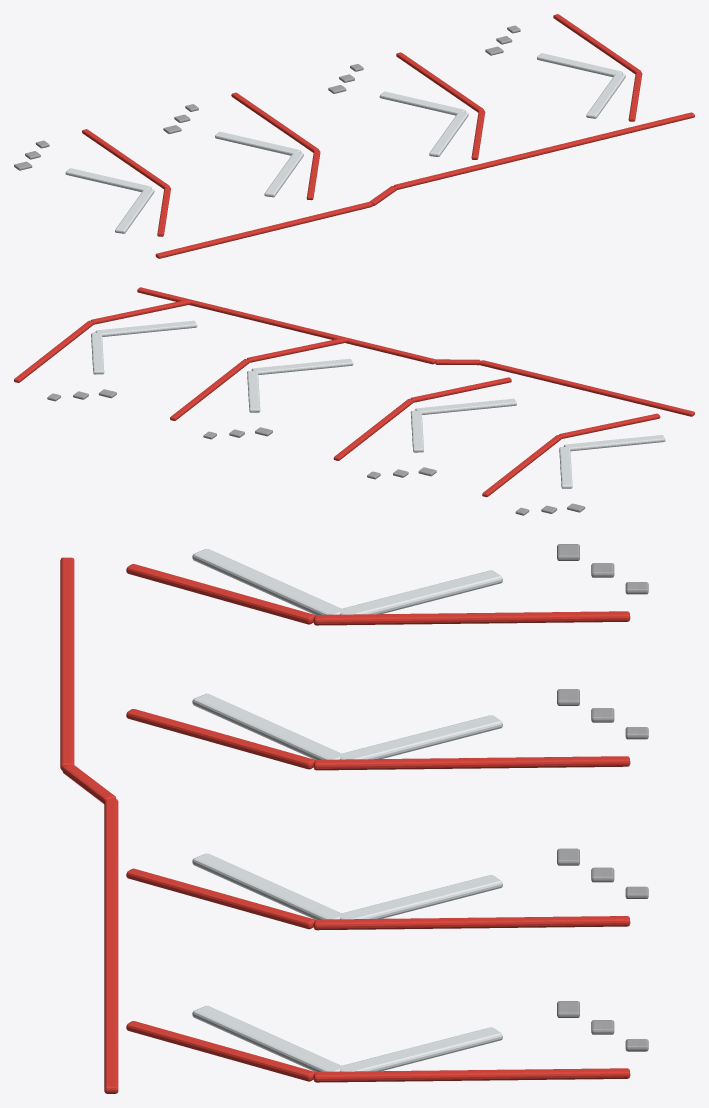
File: cult_pilgrim_marks.glb
The picture shows the model from 3 angles, top to bottom: view 1: azimuth 30°, elevation 25°; view 2: azimuth 150°, elevation 25°; view 3: azimuth 270°, elevation 25°; orthographic projection. The views are drawn at different scales.
Parts seen in each view (by area): view 1: CULT_PILGRIM_MARKS__Seam_Wick_2, CULT_PILGRIM_MARKS__Seam_Wick_0, CULT_PILGRIM_MARKS__Blood_Stroke_1_1, CULT_PILGRIM_MARKS__Blood_Stroke_2_1, CULT_PILGRIM_MARKS__Blood_Stroke_3_1, CULT_PILGRIM_MARKS__Blood_Stroke_0_1, CULT_PILGRIM_MARKS__Broken_Chevron_2_1, CULT_PILGRIM_MARKS__Broken_Chevron_0_1, CULT_PILGRIM_MARKS__Broken_Chevron_1_1, CULT_PILGRIM_MARKS__Broken_Chevron_3_1, CULT_PILGRIM_MARKS__Broken_Chevron_3_0, CULT_PILGRIM_MARKS__Broken_Chevron_0_0 (+2 smaller); view 2: CULT_PILGRIM_MARKS__Seam_Wick_2, CULT_PILGRIM_MARKS__Seam_Wick_0, CULT_PILGRIM_MARKS__Broken_Chevron_3_0, CULT_PILGRIM_MARKS__Broken_Chevron_2_0, CULT_PILGRIM_MARKS__Broken_Chevron_0_0, CULT_PILGRIM_MARKS__Broken_Chevron_1_0, CULT_PILGRIM_MARKS__Blood_Stroke_1_1, CULT_PILGRIM_MARKS__Blood_Stroke_0_1, CULT_PILGRIM_MARKS__Blood_Stroke_3_1, CULT_PILGRIM_MARKS__Blood_Stroke_2_1, CULT_PILGRIM_MARKS__Blood_Stroke_1_0, CULT_PILGRIM_MARKS__Blood_Stroke_3_0 (+6 smaller); view 3: CULT_PILGRIM_MARKS__Seam_Wick_2, CULT_PILGRIM_MARKS__Blood_Stroke_0_1, CULT_PILGRIM_MARKS__Blood_Stroke_1_1, CULT_PILGRIM_MARKS__Blood_Stroke_3_1, CULT_PILGRIM_MARKS__Blood_Stroke_2_1, CULT_PILGRIM_MARKS__Seam_Wick_0, CULT_PILGRIM_MARKS__Broken_Chevron_2_0, CULT_PILGRIM_MARKS__Broken_Chevron_1_0, CULT_PILGRIM_MARKS__Broken_Chevron_0_0, CULT_PILGRIM_MARKS__Broken_Chevron_3_0, CULT_PILGRIM_MARKS__Broken_Chevron_0_1, CULT_PILGRIM_MARKS__Broken_Chevron_3_1 (+6 smaller).
Boxes of the visible parts, x1,y1,x2,y2 form: CULT_PILGRIM_MARKS__Seam_Wick_2: [394, 112, 694, 189]; CULT_PILGRIM_MARKS__Seam_Wick_0: [155, 202, 372, 258]; CULT_PILGRIM_MARKS__Blood_Stroke_1_1: [231, 92, 319, 152]; CULT_PILGRIM_MARKS__Blood_Stroke_2_1: [396, 52, 483, 112]; CULT_PILGRIM_MARKS__Blood_Stroke_3_1: [553, 14, 641, 74]; CULT_PILGRIM_MARKS__Blood_Stroke_0_1: [82, 129, 169, 189]; CULT_PILGRIM_MARKS__Broken_Chevron_2_1: [379, 91, 465, 115]; CULT_PILGRIM_MARKS__Broken_Chevron_0_1: [65, 168, 151, 192]; CULT_PILGRIM_MARKS__Broken_Chevron_1_1: [215, 131, 301, 155]; CULT_PILGRIM_MARKS__Broken_Chevron_3_1: [537, 53, 622, 76]; CULT_PILGRIM_MARKS__Broken_Chevron_3_0: [586, 73, 625, 118]; CULT_PILGRIM_MARKS__Broken_Chevron_0_0: [115, 188, 154, 233]; CULT_PILGRIM_MARKS__Seam_Wick_2: [137, 287, 435, 364]; CULT_PILGRIM_MARKS__Seam_Wick_0: [479, 360, 694, 416]; CULT_PILGRIM_MARKS__Broken_Chevron_3_0: [95, 320, 197, 336]; CULT_PILGRIM_MARKS__Broken_Chevron_2_0: [251, 358, 353, 374]; CULT_PILGRIM_MARKS__Broken_Chevron_0_0: [563, 435, 665, 451]; CULT_PILGRIM_MARKS__Broken_Chevron_1_0: [415, 398, 516, 414]; CULT_PILGRIM_MARKS__Blood_Stroke_1_1: [333, 398, 413, 460]; CULT_PILGRIM_MARKS__Blood_Stroke_0_1: [482, 435, 562, 497]; CULT_PILGRIM_MARKS__Blood_Stroke_3_1: [14, 320, 93, 382]; CULT_PILGRIM_MARKS__Blood_Stroke_2_1: [170, 359, 249, 420]; CULT_PILGRIM_MARKS__Blood_Stroke_1_0: [410, 377, 511, 402]; CULT_PILGRIM_MARKS__Blood_Stroke_3_0: [90, 299, 191, 324]; CULT_PILGRIM_MARKS__Seam_Wick_2: [104, 799, 118, 1093]; CULT_PILGRIM_MARKS__Blood_Stroke_0_1: [313, 611, 630, 625]; CULT_PILGRIM_MARKS__Blood_Stroke_1_1: [313, 756, 630, 770]; CULT_PILGRIM_MARKS__Blood_Stroke_3_1: [313, 1068, 630, 1082]; CULT_PILGRIM_MARKS__Blood_Stroke_2_1: [313, 916, 630, 930]; CULT_PILGRIM_MARKS__Seam_Wick_0: [60, 557, 74, 769]; CULT_PILGRIM_MARKS__Broken_Chevron_2_0: [192, 853, 343, 919]; CULT_PILGRIM_MARKS__Broken_Chevron_1_0: [192, 693, 343, 759]; CULT_PILGRIM_MARKS__Broken_Chevron_0_0: [192, 549, 343, 614]; CULT_PILGRIM_MARKS__Broken_Chevron_3_0: [192, 1006, 343, 1071]; CULT_PILGRIM_MARKS__Broken_Chevron_0_1: [339, 570, 502, 614]; CULT_PILGRIM_MARKS__Broken_Chevron_3_1: [339, 1027, 502, 1071].
Bounding box in the file's own units: 1.47 × 0.022 × 0.669.
3 materials, 1 textured.
